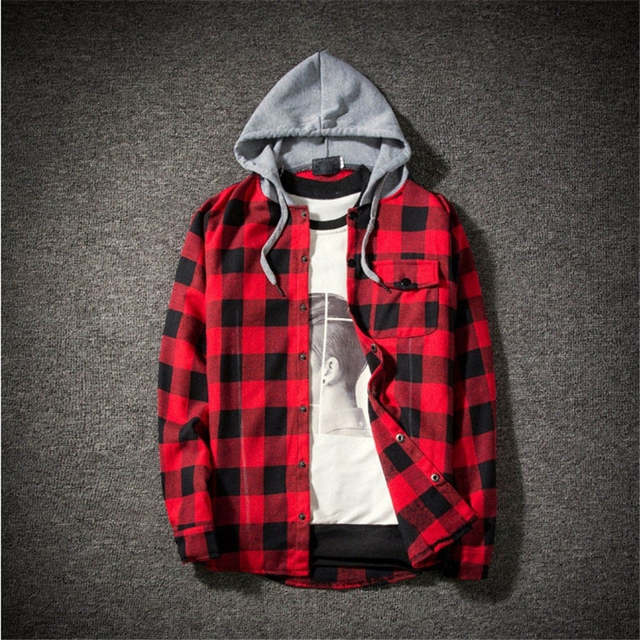squared: (153, 158, 515, 593)
